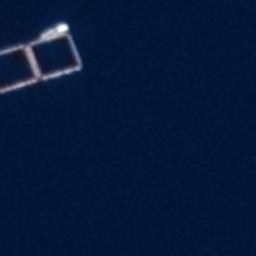square_solid: (21, 28, 88, 84), (1, 36, 42, 99)
